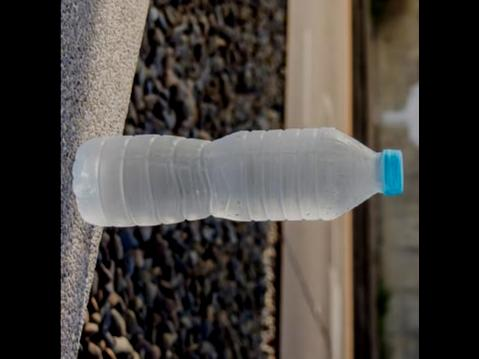bottle: (68, 120, 406, 233)
